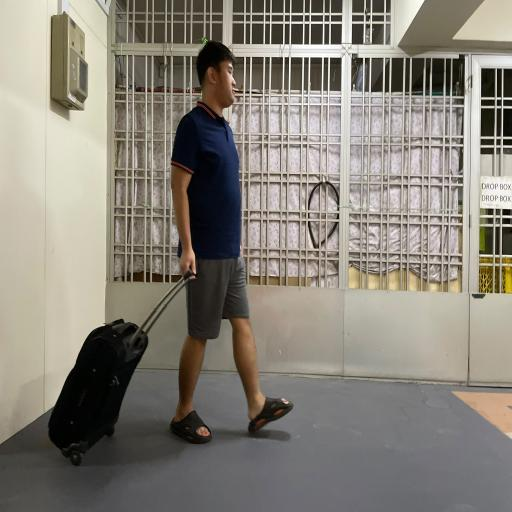person_right: (41, 42, 288, 467)
